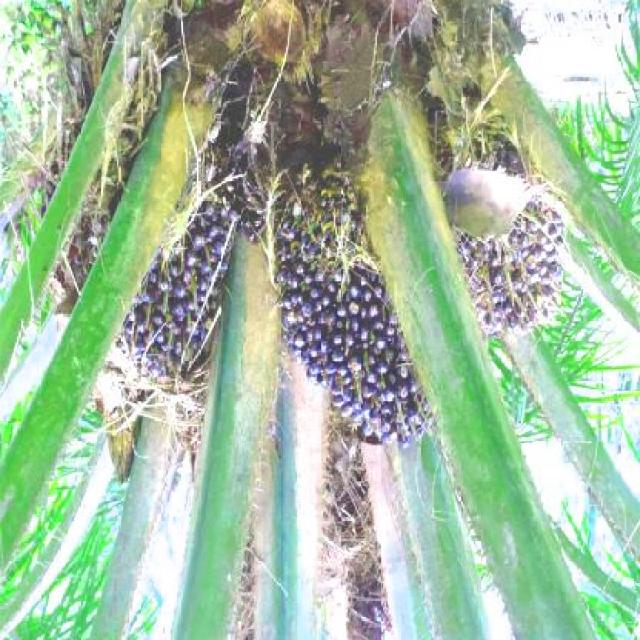palm-oil: (259, 234, 447, 443), (69, 141, 226, 381), (446, 170, 571, 332)
